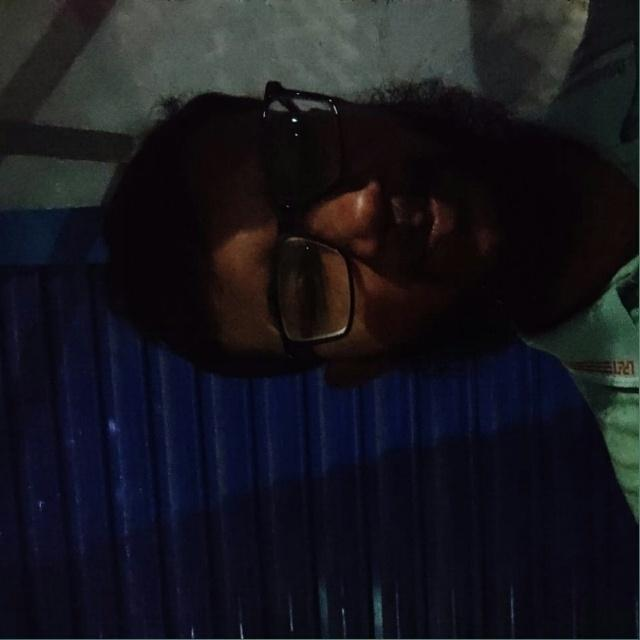Disgust: (88, 68, 619, 381)
